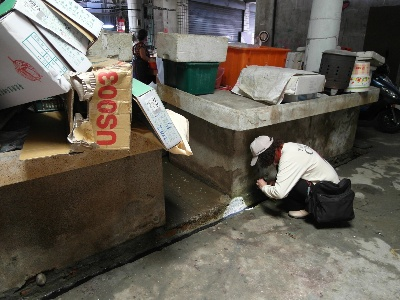box: (1, 1, 103, 108), (72, 61, 133, 152), (132, 74, 182, 149), (160, 61, 219, 96), (225, 43, 290, 70)
bucket: (317, 48, 359, 91)
styrofoam: (156, 29, 229, 63)
